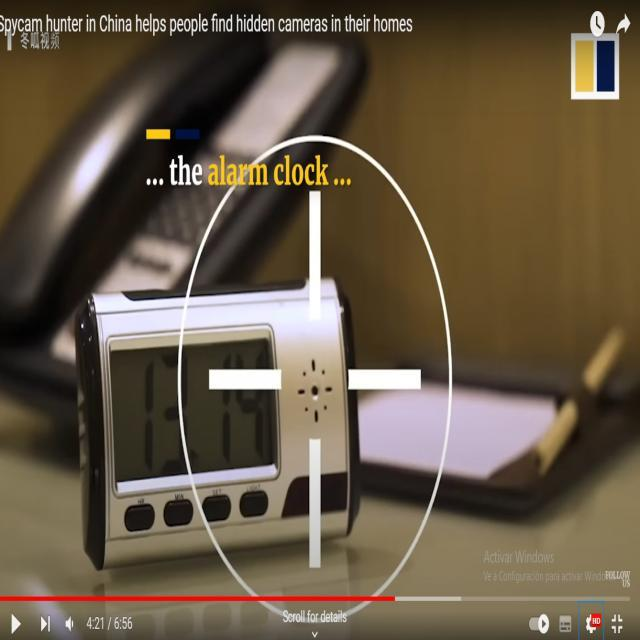hidden camera: (311, 381, 320, 400)
